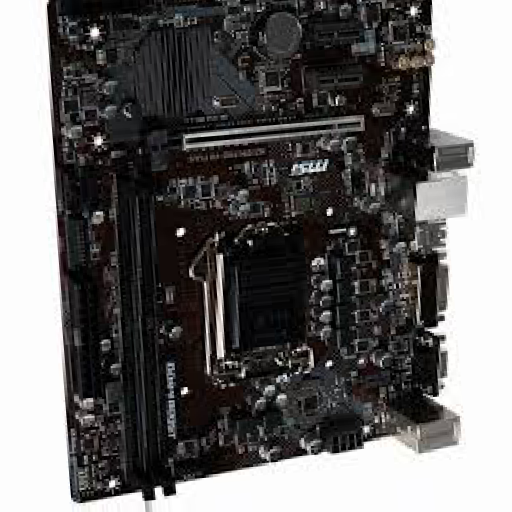CPU: (198, 220, 317, 378)
GPU: (145, 111, 368, 175)
MOTHERBOARD: (37, 2, 435, 503)
RAM: (109, 167, 176, 502)
